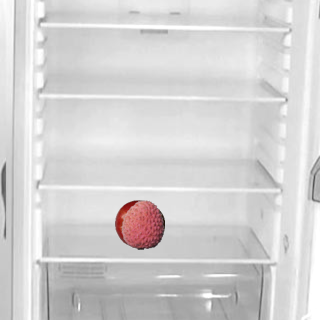Apple Braeburn: (114, 199, 164, 249)
Lychee: (117, 199, 167, 249)
